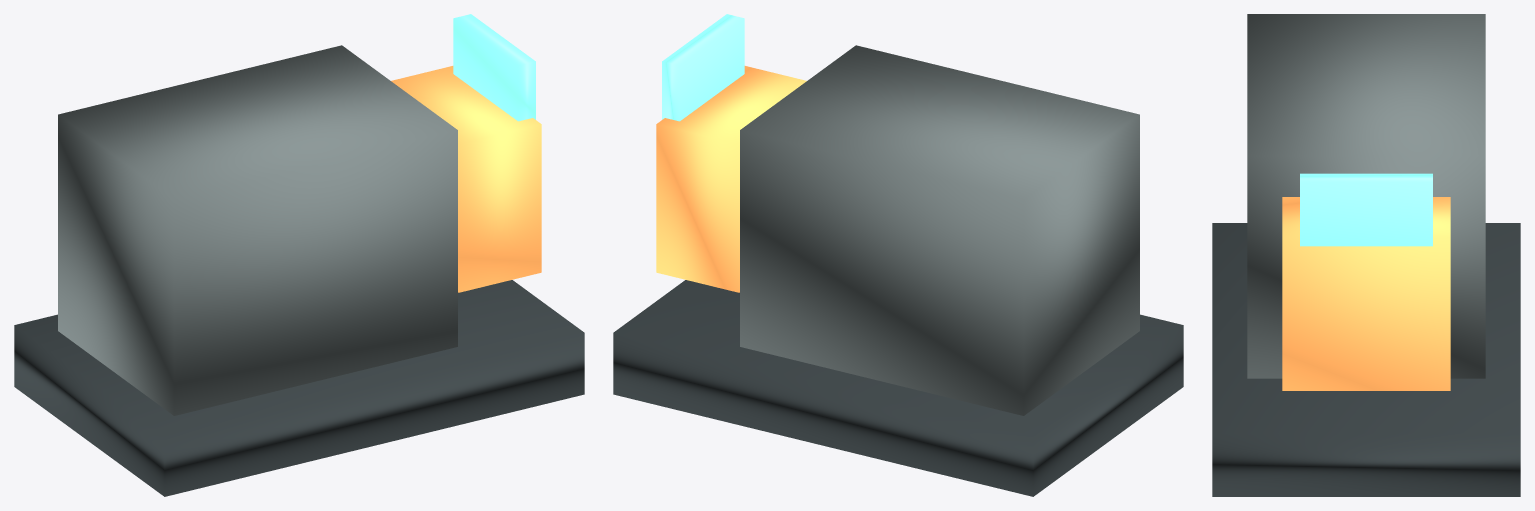
The model's file is jovian-harvester-skimmer-compressor-lod2.glb.
3 views of the same model, side by side, from view 1: azimuth 30°, elevation 25°; view 2: azimuth 150°, elevation 25°; view 3: azimuth 270°, elevation 25° (orthographic). The views are drawn at different scales.
Visible parts, largest first — view 1: jovian-harvester-skimmer-compressor-body, jovian-harvester-skimmer-compressor-skid, jovian-harvester-skimmer-compressor-intake, jovian-harvester-interactable-status; view 2: jovian-harvester-skimmer-compressor-body, jovian-harvester-skimmer-compressor-skid, jovian-harvester-skimmer-compressor-intake, jovian-harvester-interactable-status; view 3: jovian-harvester-skimmer-compressor-body, jovian-harvester-skimmer-compressor-skid, jovian-harvester-skimmer-compressor-intake, jovian-harvester-interactable-status.
Part boxes in pixels (x1=…): jovian-harvester-skimmer-compressor-body: x1=58, y1=45, x2=457, y2=415; jovian-harvester-skimmer-compressor-skid: x1=14, y1=280, x2=584, y2=496; jovian-harvester-skimmer-compressor-intake: x1=391, y1=66, x2=541, y2=292; jovian-harvester-interactable-status: x1=453, y1=14, x2=535, y2=121; jovian-harvester-skimmer-compressor-body: x1=740, y1=45, x2=1139, y2=415; jovian-harvester-skimmer-compressor-skid: x1=613, y1=280, x2=1183, y2=496; jovian-harvester-skimmer-compressor-intake: x1=656, y1=66, x2=806, y2=292; jovian-harvester-interactable-status: x1=662, y1=14, x2=744, y2=121; jovian-harvester-skimmer-compressor-body: x1=1247, y1=14, x2=1485, y2=378; jovian-harvester-skimmer-compressor-skid: x1=1212, y1=223, x2=1520, y2=496; jovian-harvester-skimmer-compressor-intake: x1=1282, y1=197, x2=1450, y2=390; jovian-harvester-interactable-status: x1=1300, y1=173, x2=1432, y2=246.
Bounding box in the file's own units: 1.42 × 0.98 × 0.88.
